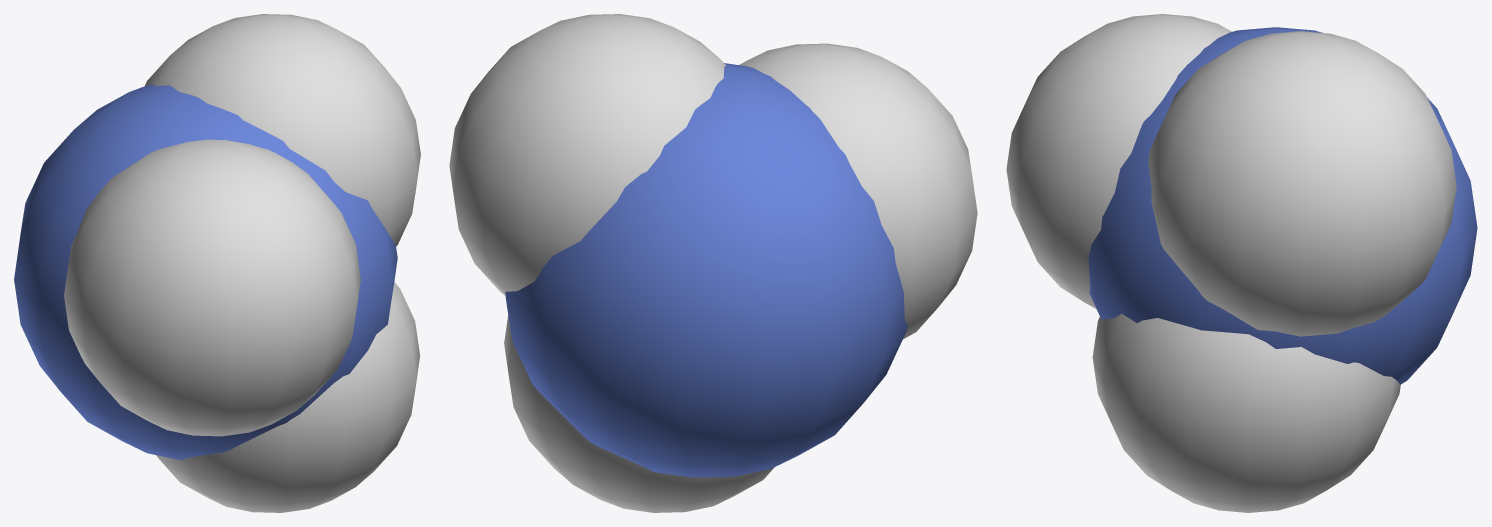
File: ammonia-cpk.glb
3 renders of one model, left to right at view 1: azimuth 30°, elevation 25°; view 2: azimuth 150°, elevation 25°; view 3: azimuth 270°, elevation 25°, orthographic. The views are drawn at different scales.
Parts seen in each view (by area): view 1: ammonia-cpk; view 2: ammonia-cpk; view 3: ammonia-cpk.
Boxes of the visible parts, left/top/right/bottom form: ammonia-cpk: left=14, top=14, right=420, bottom=512; ammonia-cpk: left=449, top=14, right=977, bottom=512; ammonia-cpk: left=1006, top=14, right=1477, bottom=512.
Bounding box in the file's own units: 3.57 × 3.96 × 3.62.
